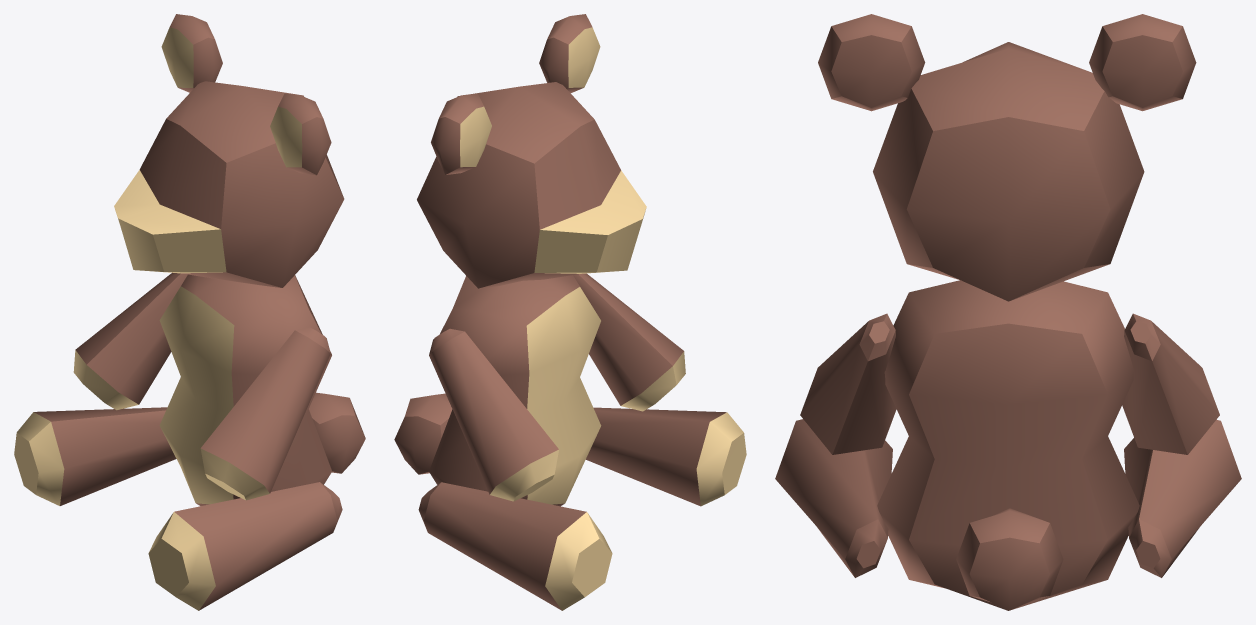
File: LI_Bear_Mesh_01.fbx
The picture shows the model from 3 angles, left to right: view 1: azimuth 30°, elevation 25°; view 2: azimuth 150°, elevation 25°; view 3: azimuth 270°, elevation 25°; orthographic projection. The views are drawn at different scales.
Parts seen in each view (by area): view 1: LI_Bear_01; view 2: LI_Bear_01; view 3: LI_Bear_01.
Boxes of the visible parts, x1=… form: LI_Bear_01: x1=14, y1=14, x2=365, y2=610; LI_Bear_01: x1=394, y1=14, x2=746, y2=610; LI_Bear_01: x1=775, y1=14, x2=1241, y2=610.
Bounding box in the file's own units: 0.3361 × 0.575 × 0.4106.
